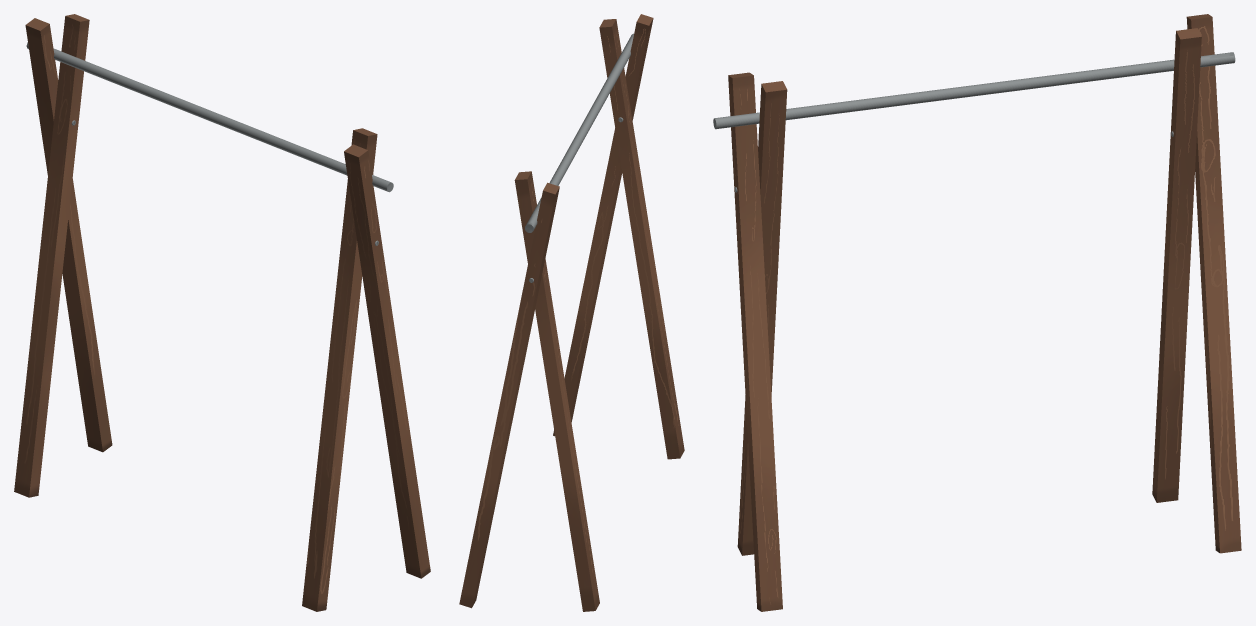
The model's file is swingbeams.fbx.
The picture shows the model from 3 angles, left to right: view 1: azimuth 30°, elevation 25°; view 2: azimuth 150°, elevation 25°; view 3: azimuth 270°, elevation 25°; orthographic projection. The views are drawn at different scales.
Parts seen in each view (by area): view 1: swing beams; view 2: swing beams; view 3: swing beams.
Boxes of the visible parts, <box> form: swing beams: <box>14,14,430,611</box>; swing beams: <box>459,14,684,611</box>; swing beams: <box>713,14,1241,611</box>.
Size of the model in its own units: 270 by 513 by 492.
